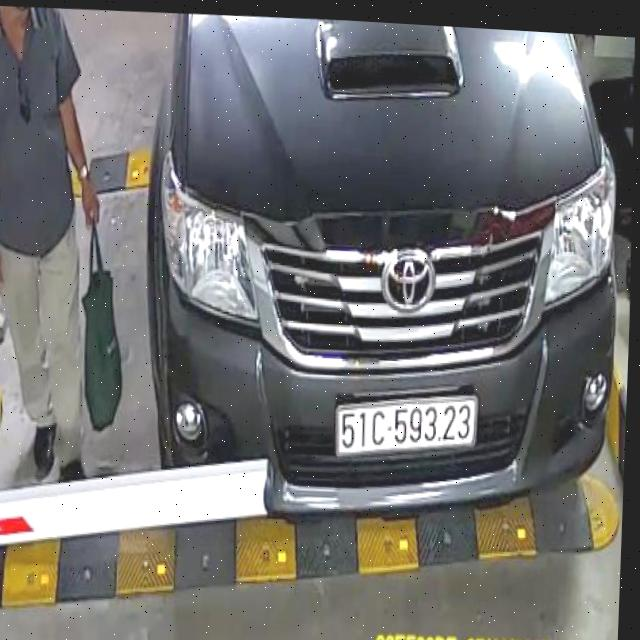car: (131, 9, 633, 544)
plate: (331, 389, 480, 463)
